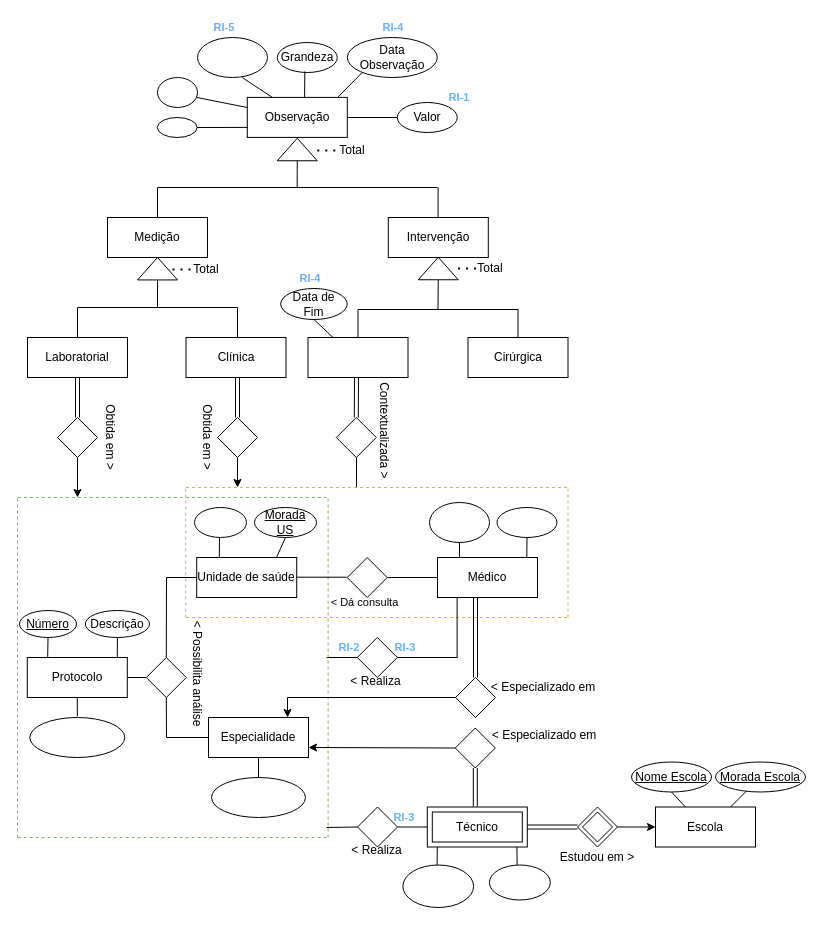
Some shapes in this 823 by 925 pixel diagram are drawn without their labels. The centre of each missing label's shape, as x and y in pixels:
"CC" belongs at point 177,92.
"Cédula" belongs at point 526,522.
"Data Homologação" belongs at point 77,737.
"Data Registo" belongs at point 232,57.
"Farmacêutica" belongs at point 357,357.
"ID" belongs at point 176,127.
"Nome Especialidade" belongs at point 258,797.
"Nome Médico" belongs at point 459,522.
"Nome Técnico" belongs at point 519,882.
"Nome US" belongs at point 220,522.
"Número Diploma" belongs at point 438,886.
